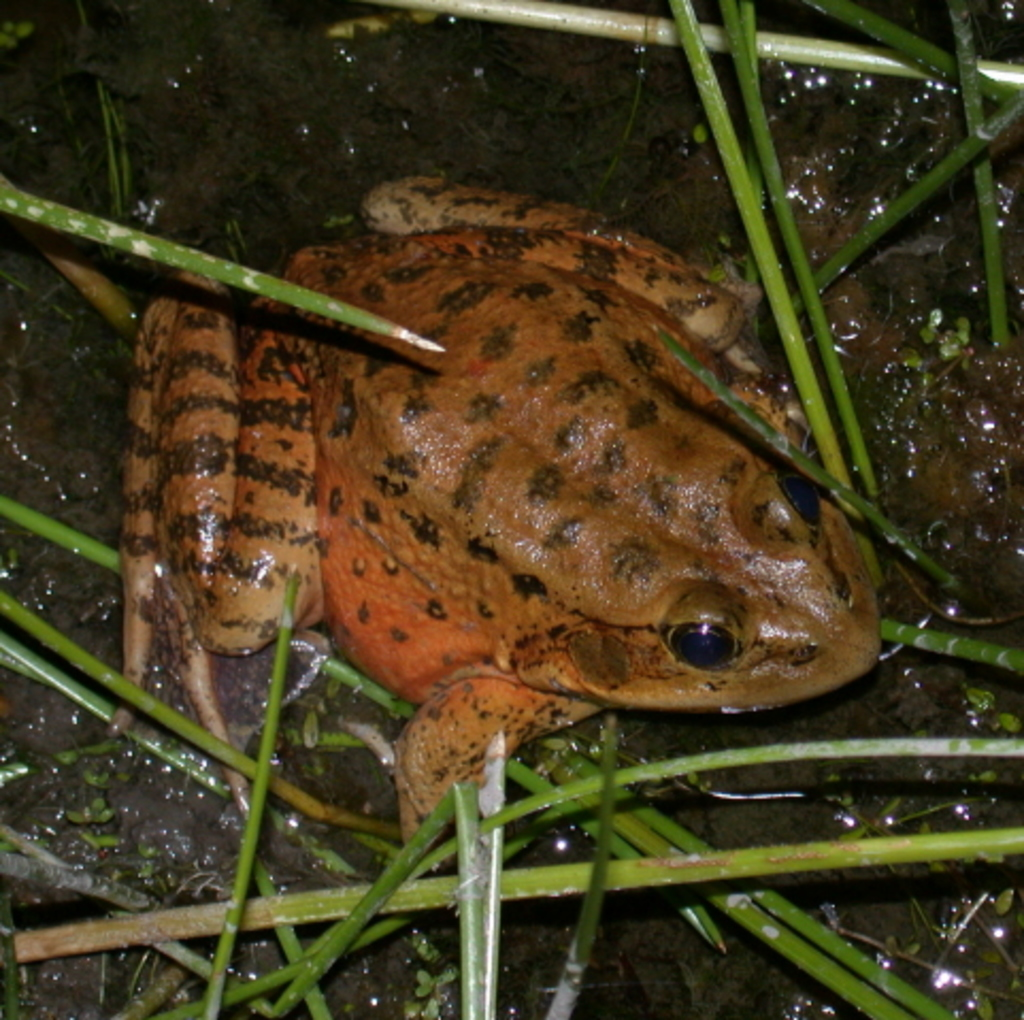Frog: (121, 177, 879, 873)
